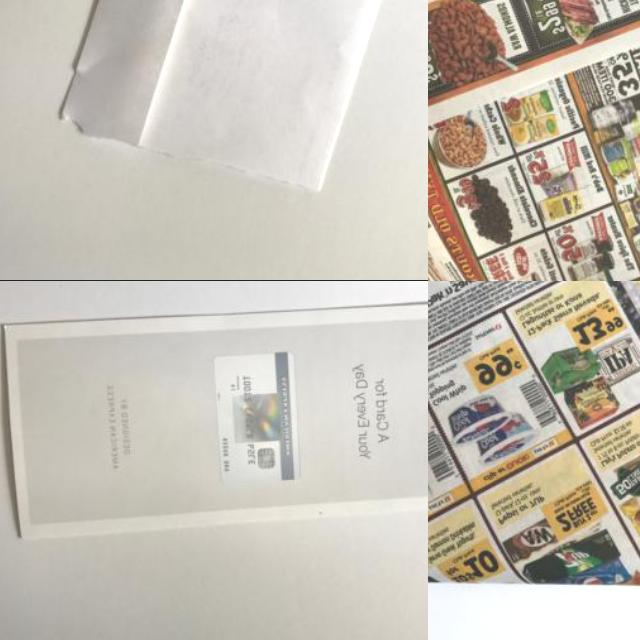papel: (1, 297, 428, 541), (63, 0, 399, 195), (428, 281, 640, 589), (428, 0, 640, 281)
